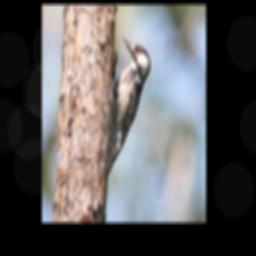Woodpecker: (107, 36, 151, 183)
